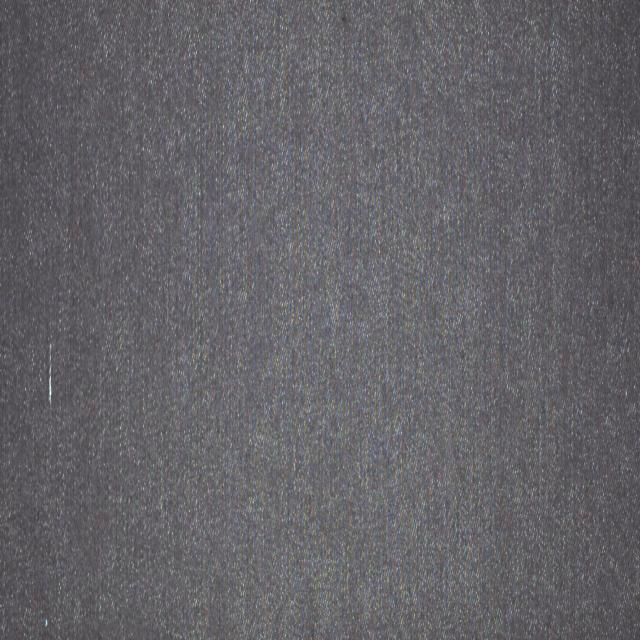pulled_or_thick_thread: (48, 343, 52, 405)
